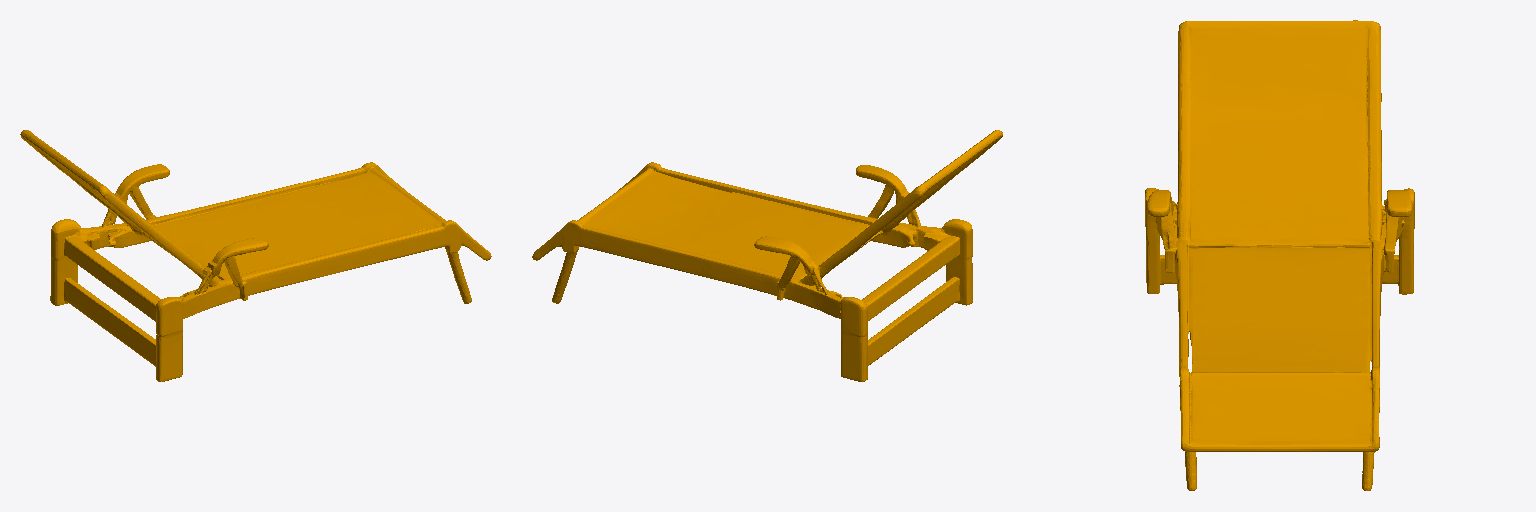
URDF robot description (lounge_chair_26):
<?xml version="1.0" ?>
<robot name="lounge_chair_26">
   <link name="lounge_chair_26">
      <visual>
         <origin xyz="0 0 0" rpy="1.5708 0.0 0.0"/>
         <geometry>
            <mesh filename="mesh/lounge_chair_26.obj" scale="1.0 1.0 1.0"/>
         </geometry>
      </visual>
      <collision>
         <origin xyz="0 0 0" rpy="1.5708 0.0 0.0"/>
         <geometry>
            <mesh filename="mesh/lounge_chair_26_collision.obj" scale="1.0 1.0 1.0"/>
         </geometry>
         <gazebo>
            <mu1>0.70</mu1>
            <mu2>0.60</mu2>
         </gazebo>
      </collision>
      <inertial>
         <mass value="11.5000"/>
         <origin xyz="0 0 0"/>
         <inertia ixx="1.0" ixy="0.0" ixz="0.0" iyy="1.0" iyz="0.0" izz="1.0"/>
      </inertial>
      <extra_info>
         <scale>1.767554</scale>
         <version>v0.1.5</version>
         <category>lounge_chair</category>
         <description>modern orange lounge chair with adjustable backrest and armrests</description>
         <min_height>0.8</min_height>
         <max_height>1.0</max_height>
         <real_height>0.9</real_height>
         <min_mass>8.0</min_mass>
         <max_mass>15.0</max_mass>
         <generate_time>20251021121143</generate_time>
         <gs_model>mesh/lounge_chair_26_gs.ply</gs_model>
      </extra_info>
   </link>
   <custom_data>
      <quality>
         <MeshGeoChecker>YES</MeshGeoChecker>
         <ImageSegChecker>YES</ImageSegChecker>
         <ImageAestheticChecker>4.5761154890060425</ImageAestheticChecker>
         <overall>YES</overall>
      </quality>
   </custom_data>
</robot>

--- Facts derived from the render (not from the file) ---
The picture shows the robot from 3 angles, left to right: view 1: azimuth 30°, elevation 25°; view 2: azimuth 150°, elevation 25°; view 3: azimuth 270°, elevation 25°; orthographic projection.
Robot: lounge_chair_26 — 1 links, 0 joints (none); root link lounge_chair_26; default pose: all joints at 0.
Visible links, largest first — view 1: lounge_chair_26; view 2: lounge_chair_26; view 3: lounge_chair_26.
Boxes of the visible links, box(x1,y1,x2,y2) form: lounge_chair_26: box(20, 130, 491, 381); lounge_chair_26: box(532, 130, 1002, 381); lounge_chair_26: box(1145, 20, 1414, 490).
Size in the robot's own frame: 1.77 by 0.8691 by 0.9 metres.
Meshes: 1 distinct files referenced, 1 mesh visuals loaded (1 OBJ).
